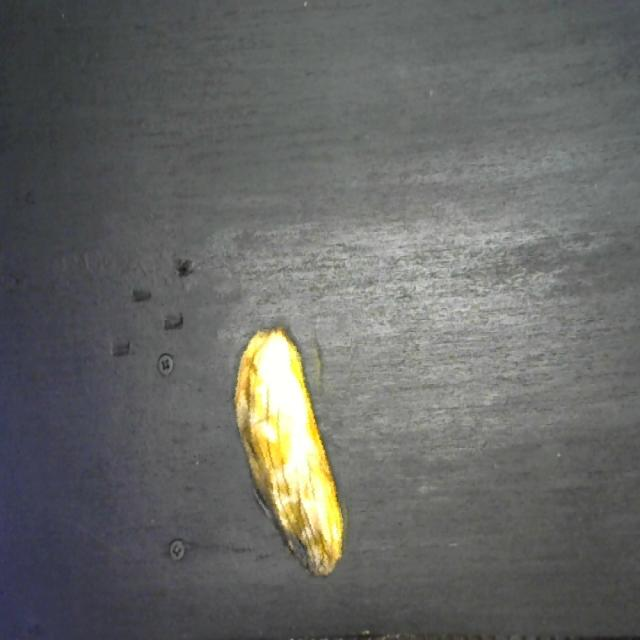biodegradable: (230, 316, 352, 584)
